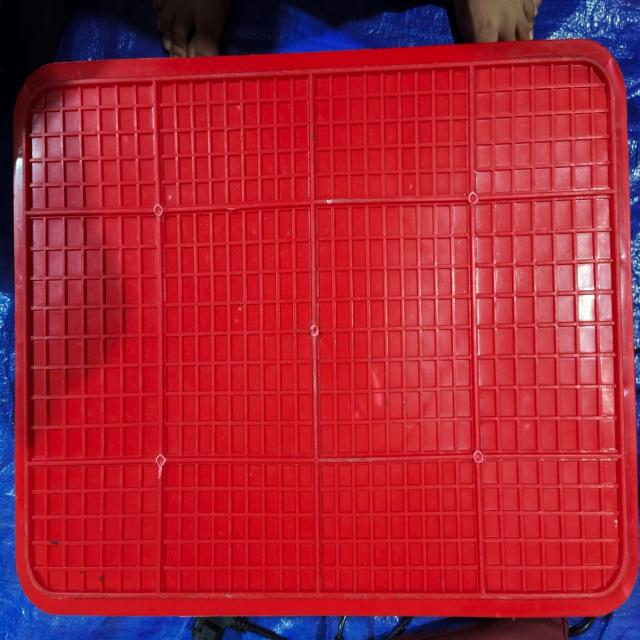red plastic box: (13, 38, 639, 619)
